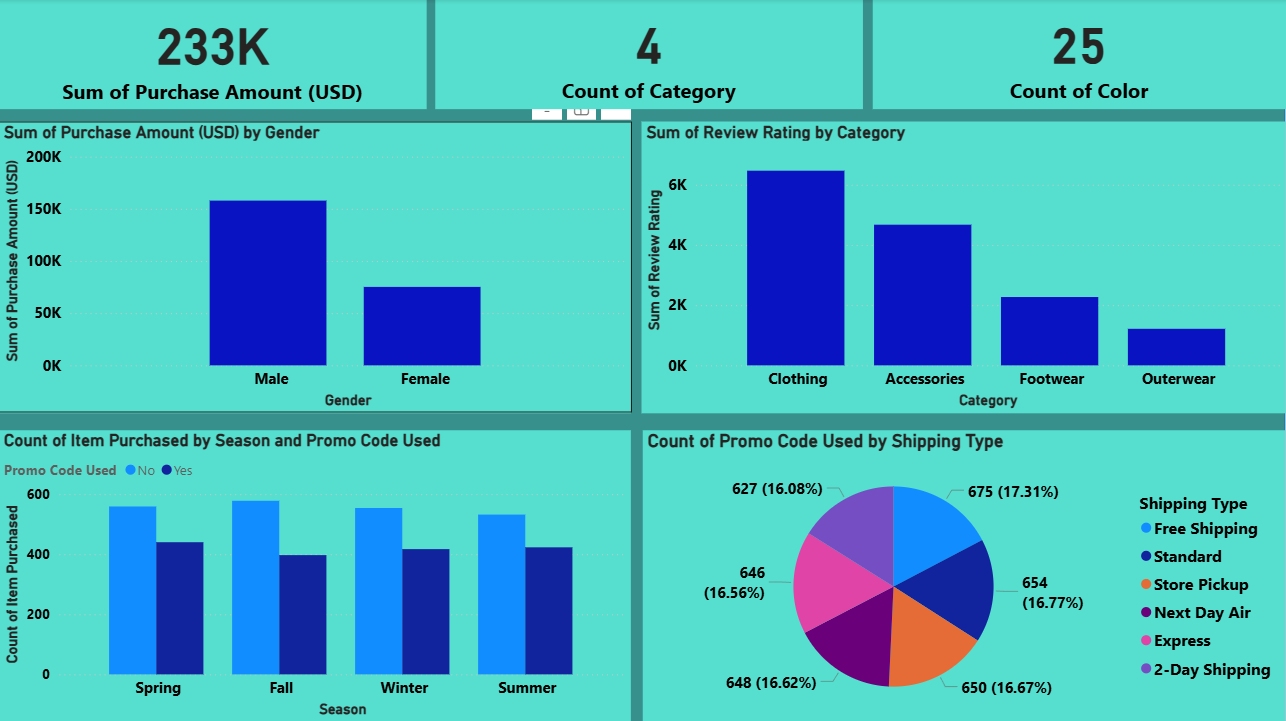

The dashboard page shown, as its layout file describes it:
{"tool":"powerbi","page":{"name":"Page 2","canvas":[1280,720],"ordinal":1},"visuals":[{"type":"shape","box":[0,0,1280.3,720.1],"z":0},{"type":"card","fields":{"Values":["Count(shopping_trends.Color)"]},"box":[869.4,0,410.9,109.7],"z":1000},{"type":"card","fields":{"Values":["Sum(shopping_trends.Purchase Amount (USD))"]},"box":[0,0,425.4,109.7],"z":2000},{"type":"clusteredColumnChart","fields":{"Category":["shopping_trends.Gender"],"Y":["Sum(shopping_trends.Purchase Amount (USD))"]},"box":[0,121.6,628.9,290.7],"z":3000},{"type":"clusteredColumnChart","fields":{"Category":["shopping_trends.Season"],"Y":["CountNonNull(shopping_trends.Item Purchased)"],"Series":["shopping_trends.Promo Code Used"]},"box":[0,429.4,628.9,290.7],"z":4000},{"type":"clusteredColumnChart","fields":{"Category":["shopping_trends.Category"],"Y":["Sum(shopping_trends.Review Rating)"]},"box":[639.5,121.6,640.8,290.7],"z":5000},{"type":"pieChart","fields":{"Category":["shopping_trends.Shipping Type"],"Y":["CountNonNull(shopping_trends.Promo Code Used)"]},"box":[640.8,429.4,639.5,290.7],"z":6000},{"type":"card","fields":{"Values":["Count(shopping_trends.Category)"]},"box":[434.7,0,425.4,109.7],"z":7000}]}

Visuals, with their boxes in screenshot pixels (x1, y1, x2, y2), scaled from the page's 1280x720 canvas onto the 1286x721 screenshot:
shape: 0:0:1285:720
card - Count(shopping_trends.Color): 873:0:1285:110
card - Sum(shopping_trends.Purchase Amount (USD)): 0:0:427:110
clusteredColumnChart - shopping_trends.Gender x Sum(shopping_trends.Purchase Amount (USD)): 0:122:632:413
clusteredColumnChart - shopping_trends.Season x CountNonNull(shopping_trends.Item Purchased): 0:430:632:720
clusteredColumnChart - shopping_trends.Category x Sum(shopping_trends.Review Rating): 642:122:1285:413
pieChart - shopping_trends.Shipping Type x CountNonNull(shopping_trends.Promo Code Used): 644:430:1285:720
card - Count(shopping_trends.Category): 437:0:864:110
